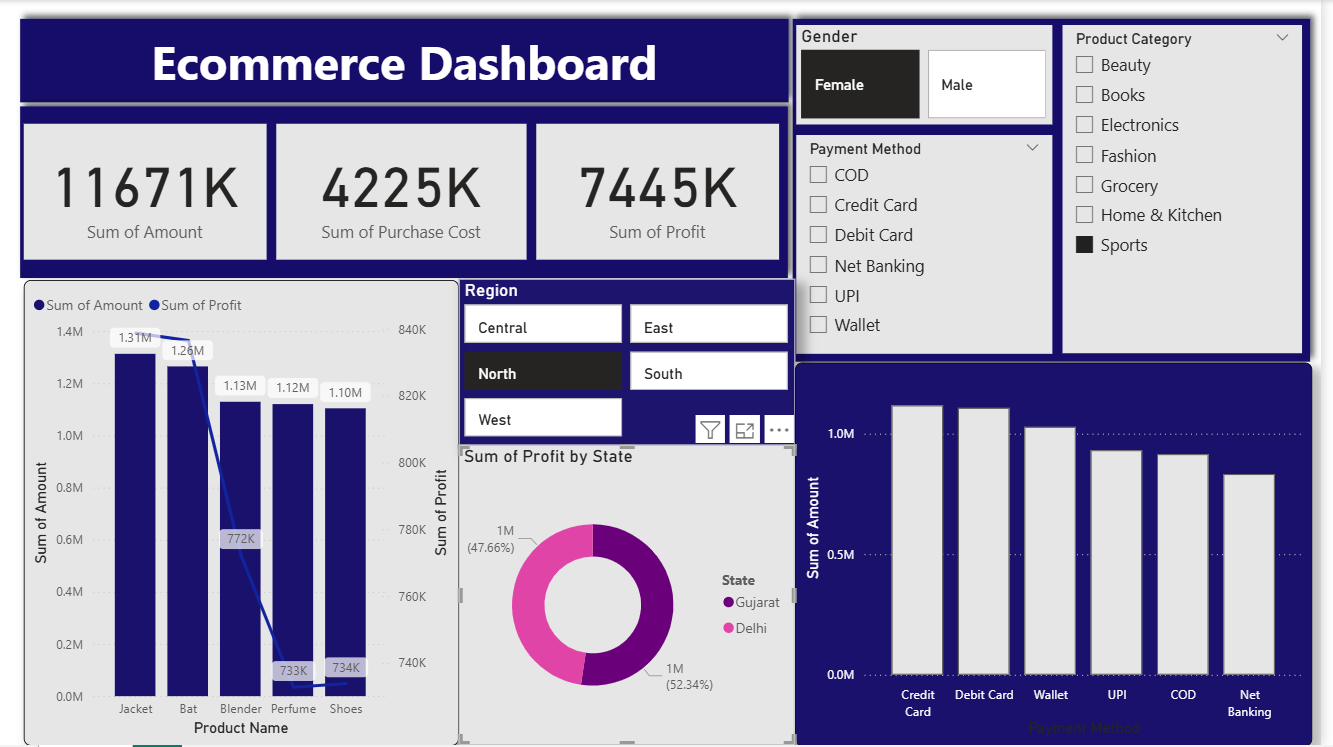

The page's visual inventory and layout, read from the dashboard file:
{"tool":"powerbi","page":{"name":"Page 1","canvas":[1280,720],"ordinal":0},"visuals":[{"type":"shape","box":[13.3,7.2,763.7,102.5],"z":0},{"type":"shape","box":[758.6,7.1,521.4,352.9],"z":1000},{"type":"shape","box":[13.6,91.4,763,187.7],"z":2000},{"type":"advancedSlicerVisual","fields":{"Values":["Ecommerce Sales Data.Gender"]},"box":[772.9,24.3,247.1,95.7],"z":3000},{"type":"slicer","fields":{"Values":["Ecommerce Sales Data.Payment Method"]},"box":[772.9,130,247.1,211.4],"z":4000},{"type":"slicer","fields":{"Values":["Ecommerce Sales Data.Product Category"]},"box":[1030,24.3,231.4,317.1],"z":5000},{"type":"card","fields":{"Values":["Sum(Ecommerce Sales Data.Amount)"]},"box":[27.7,119.4,234,131.5],"z":6000},{"type":"card","fields":{"Values":["Sum(Ecommerce Sales Data.Purchase Cost)"]},"box":[271.4,119.4,241.3,131.5],"z":7000},{"type":"card","fields":{"Values":["Sum(Ecommerce Sales Data.Profit)"]},"box":[522.4,119.4,234,131.5],"z":8000},{"type":"lineClusteredColumnComboChart","fields":{"Category":["Ecommerce Sales Data.Product Name"],"Y":["Sum(Ecommerce Sales Data.Amount)"],"Y2":["Sum(Ecommerce Sales Data.Profit)"]},"box":[27.2,270.4,419.8,449.4],"z":9000},{"type":"advancedSlicerVisual","fields":{"Values":["Ecommerce Sales Data.Region"]},"box":[448.1,269.1,324.7,160.5],"z":10000},{"type":"lineClusteredColumnComboChart","fields":{"Y":["Sum(Ecommerce Sales Data.Amount)"],"Category":["Ecommerce Sales Data.Payment Method"]},"box":[772.1,349.9,499.5,370.4],"z":11000},{"type":"donutChart","fields":{"Category":["Ecommerce Sales Data.State"],"Y":["Sum(Ecommerce Sales Data.Quantity)"]},"box":[448,429,324,290],"z":12000}]}

Visuals, with their boxes in screenshot pixels (x1, y1, x2, y2), scaled from the page's 1280x720 canvas onto the 1333x747 screenshot:
shape: {"left": 14, "top": 7, "right": 809, "bottom": 114}
shape: {"left": 790, "top": 7, "right": 1332, "bottom": 374}
shape: {"left": 14, "top": 95, "right": 809, "bottom": 290}
advancedSlicerVisual - Ecommerce Sales Data.Gender: {"left": 805, "top": 25, "right": 1062, "bottom": 125}
slicer - Ecommerce Sales Data.Payment Method: {"left": 805, "top": 135, "right": 1062, "bottom": 354}
slicer - Ecommerce Sales Data.Product Category: {"left": 1073, "top": 25, "right": 1314, "bottom": 354}
card - Sum(Ecommerce Sales Data.Amount): {"left": 29, "top": 124, "right": 273, "bottom": 260}
card - Sum(Ecommerce Sales Data.Purchase Cost): {"left": 283, "top": 124, "right": 534, "bottom": 260}
card - Sum(Ecommerce Sales Data.Profit): {"left": 544, "top": 124, "right": 788, "bottom": 260}
lineClusteredColumnComboChart - Ecommerce Sales Data.Product Name x Sum(Ecommerce Sales Data.Amount): {"left": 28, "top": 281, "right": 466, "bottom": 746}
advancedSlicerVisual - Ecommerce Sales Data.Region: {"left": 467, "top": 279, "right": 805, "bottom": 446}
lineClusteredColumnComboChart - Sum(Ecommerce Sales Data.Amount) x Ecommerce Sales Data.Payment Method: {"left": 804, "top": 363, "right": 1324, "bottom": 746}
donutChart - Ecommerce Sales Data.State x Sum(Ecommerce Sales Data.Quantity): {"left": 467, "top": 445, "right": 804, "bottom": 746}
